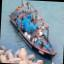fishing boat: (5, 0, 60, 61)
